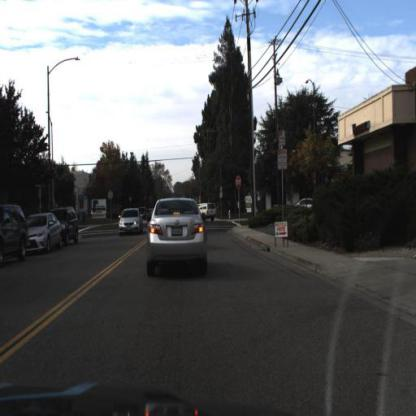car: (147, 199, 208, 269), (1, 203, 30, 264), (27, 212, 63, 255), (61, 209, 82, 245), (120, 209, 141, 237)
